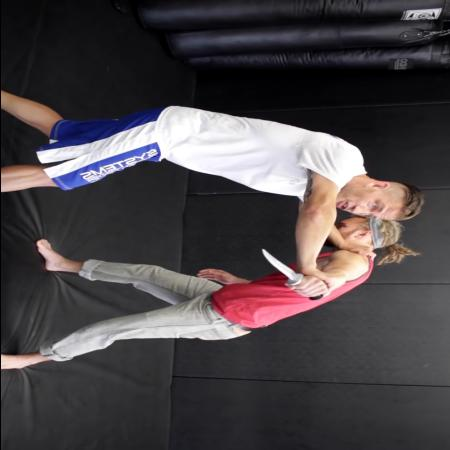long weapon: (250, 244, 328, 302)
